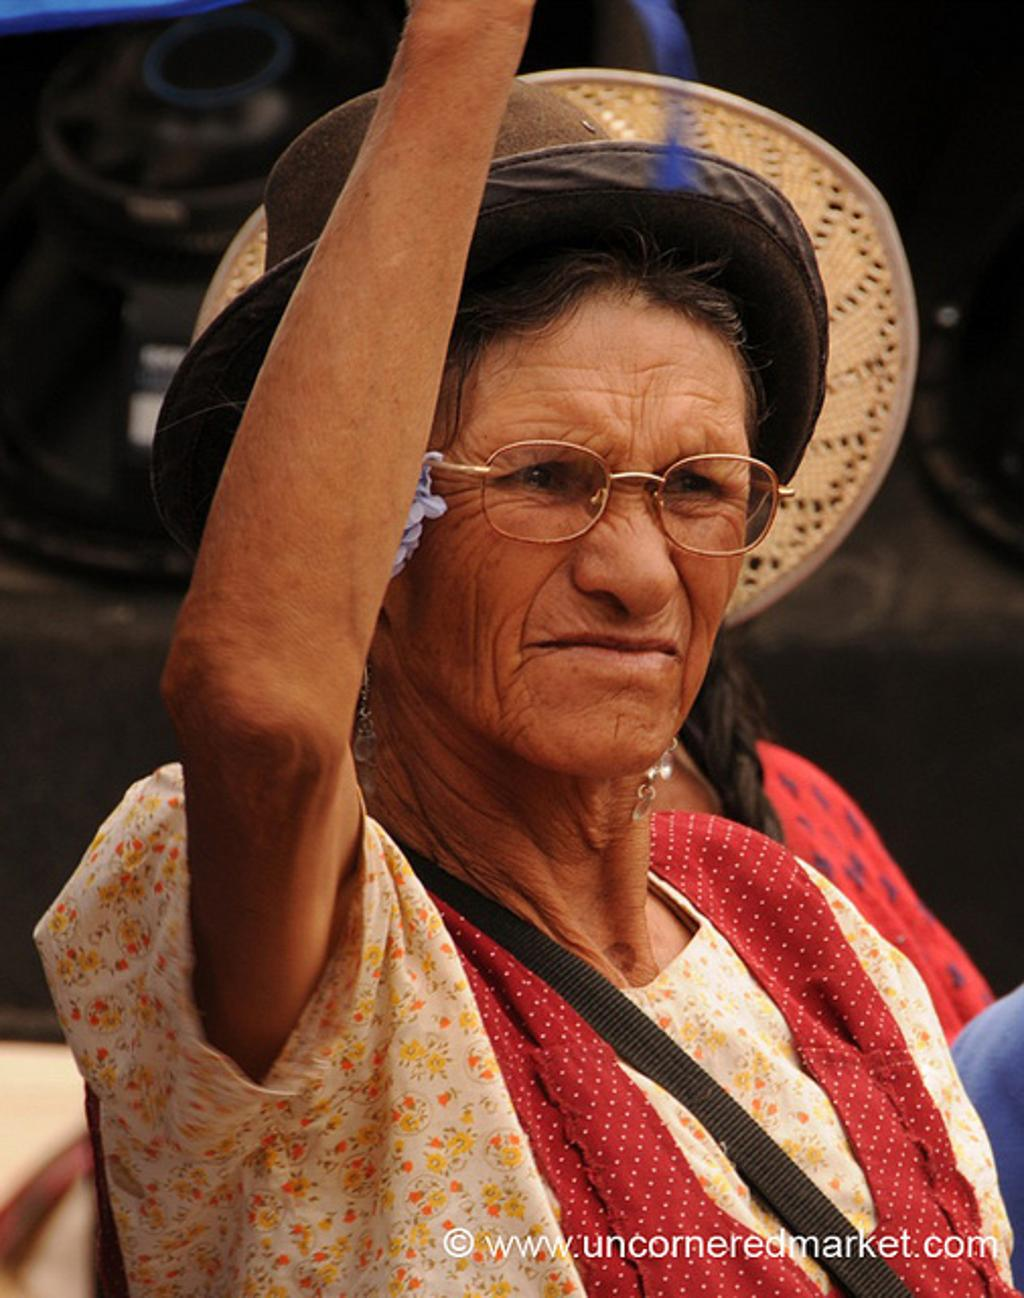face: (391, 257, 746, 779)
